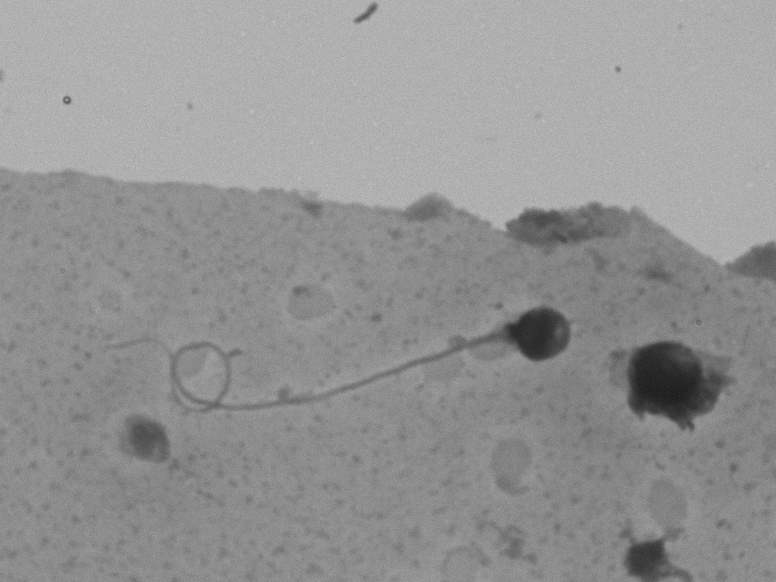Abnormal: (123, 265, 587, 451)
